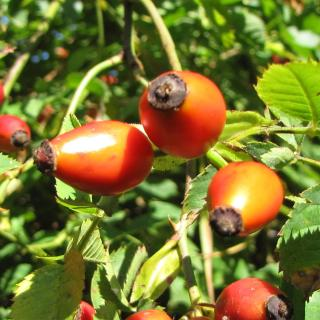tomato: (139, 69, 226, 153)
